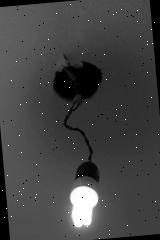lightbulb: (66, 160, 105, 228)
